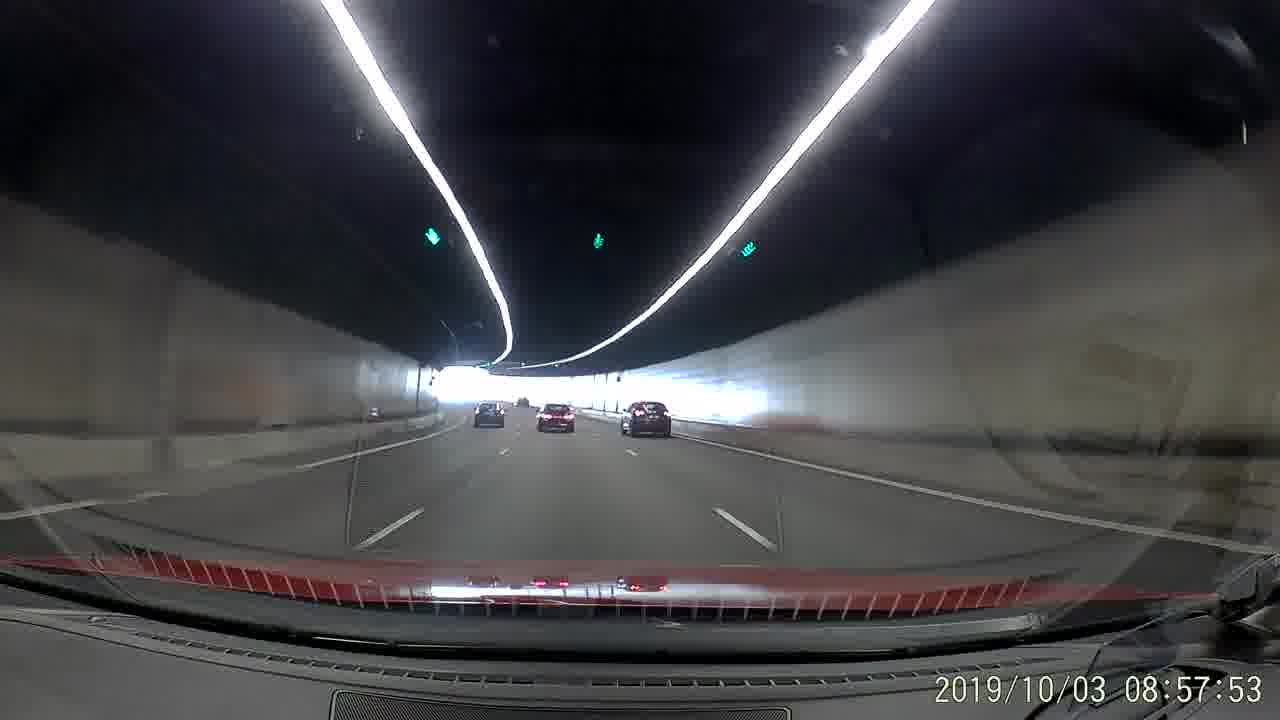car: (619, 398, 671, 441), (533, 401, 575, 434), (473, 399, 508, 429)
